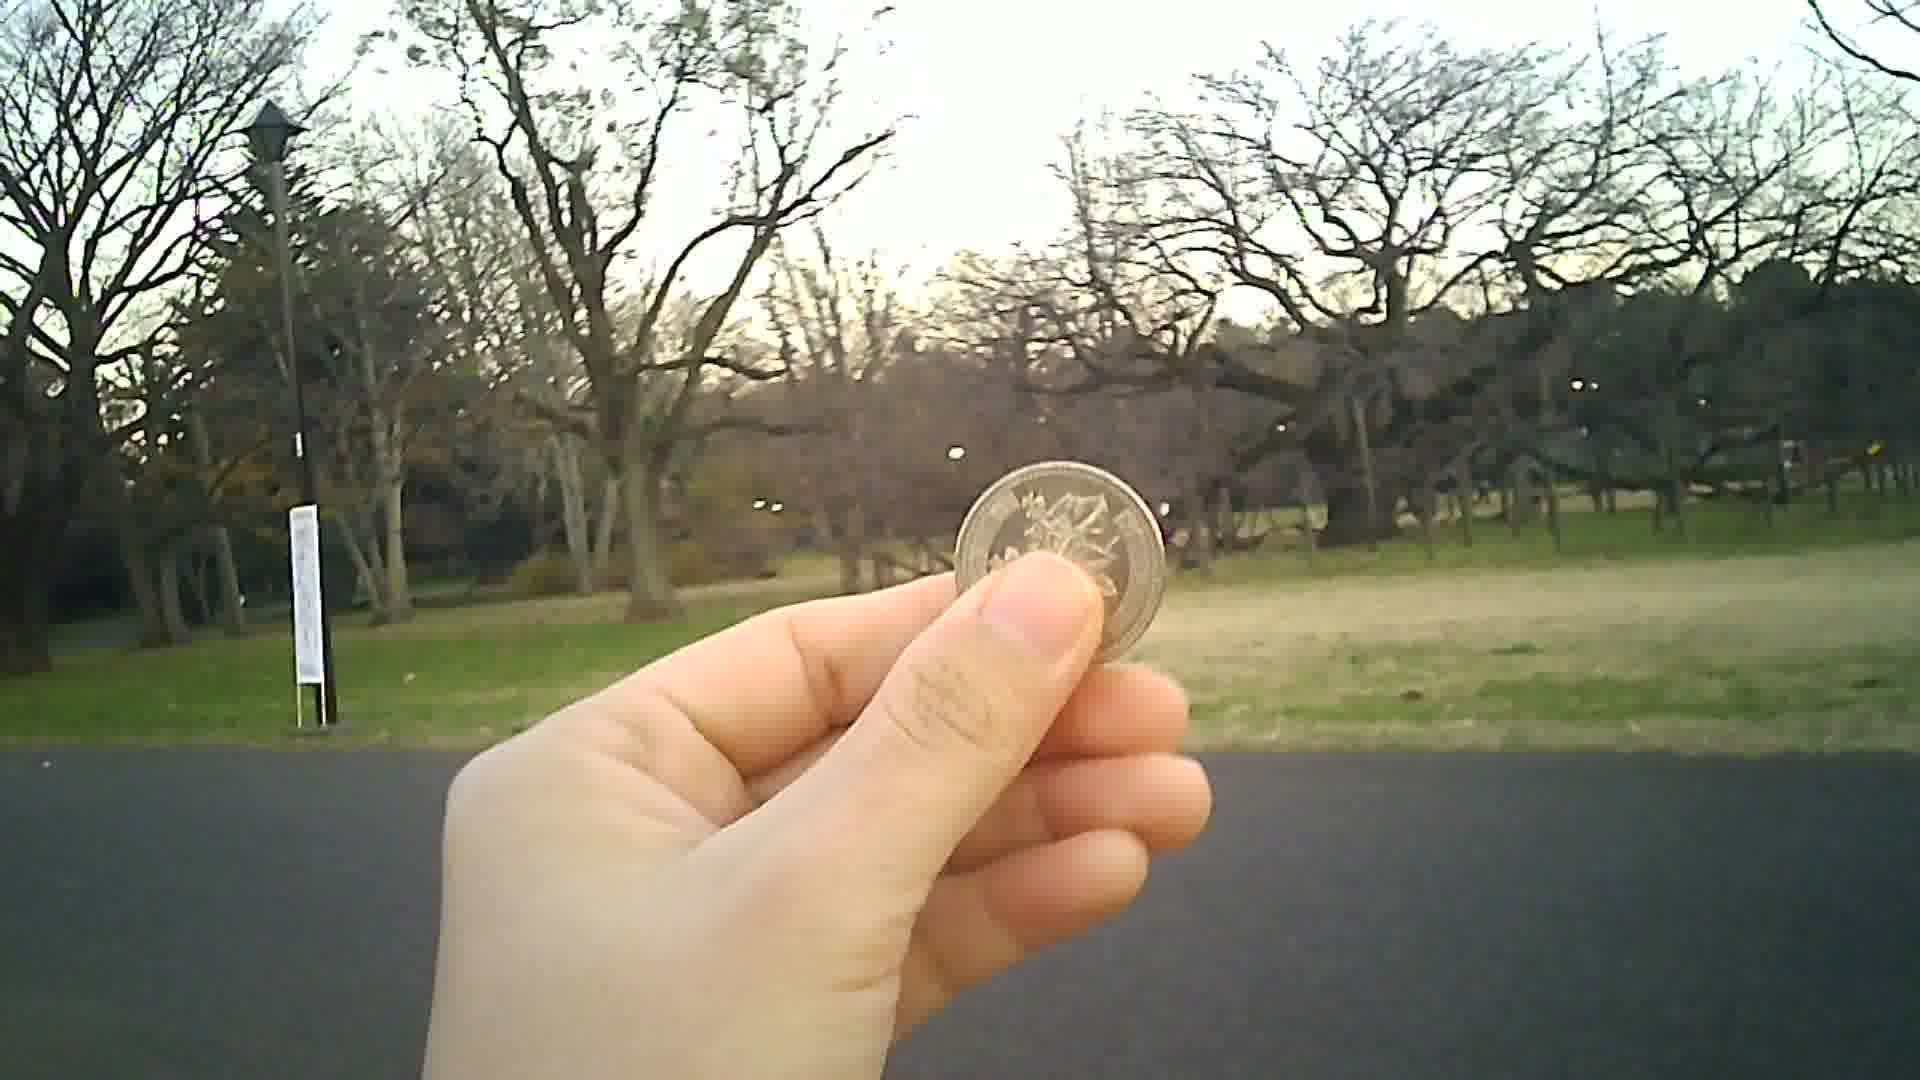500 Yen: (942, 454, 1188, 667)
